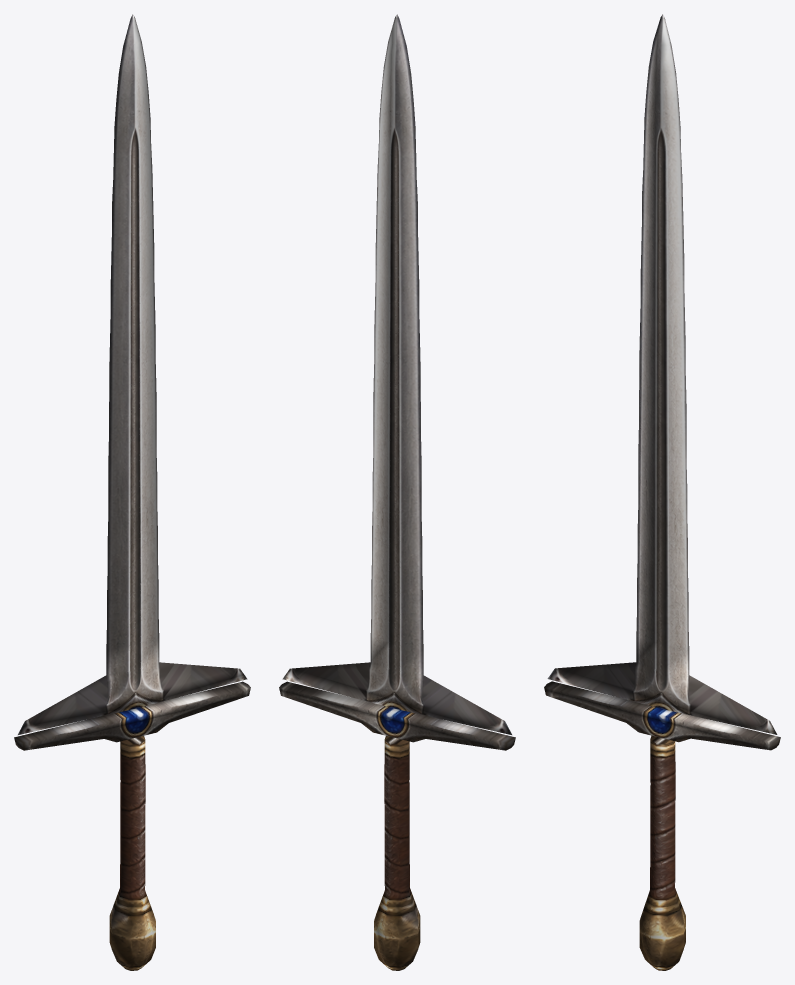
The model's file is mm7_m406_sword.glb.
The picture shows the model from 3 angles, left to right: view 1: azimuth 30°, elevation 25°; view 2: azimuth 150°, elevation 25°; view 3: azimuth 330°, elevation 25°; orthographic projection.
Parts seen in each view (by area): view 1: Sword; view 2: Sword; view 3: Sword.
Boxes of the visible parts, bbox=[...] form: Sword: bbox=[14, 14, 250, 970]; Sword: bbox=[279, 14, 515, 970]; Sword: bbox=[544, 14, 780, 970].
Size of the model in its own units: 0.2661 by 1.05 by 0.048.
Materials: 1 (1 with a texture image).
